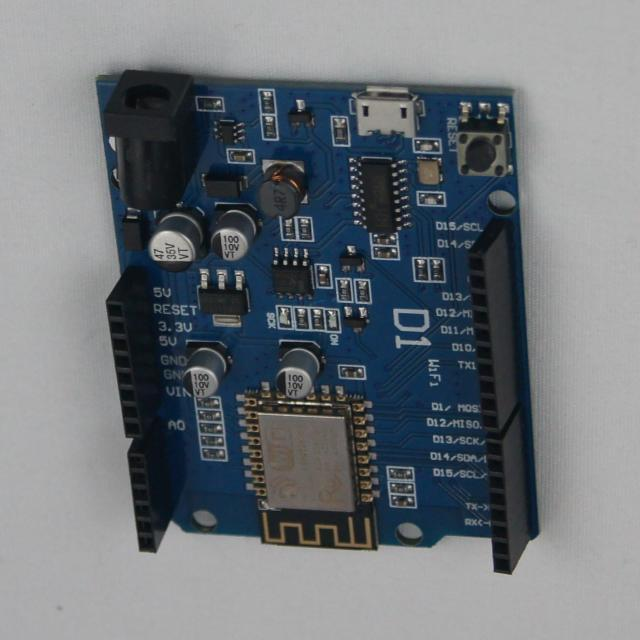Arduino Uno WiFi Shield: (97, 71, 539, 573)
